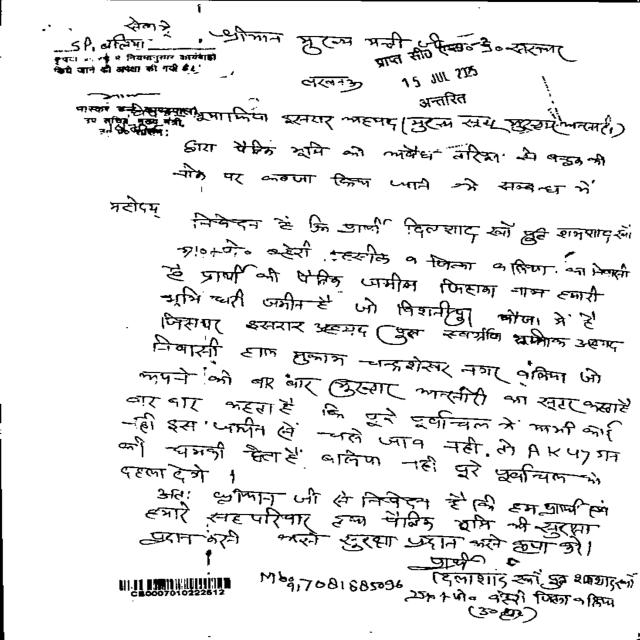antritgovtstamp: (368, 38, 496, 110)
barcode: (107, 572, 243, 600)
signnamestamp: (72, 89, 205, 141)
